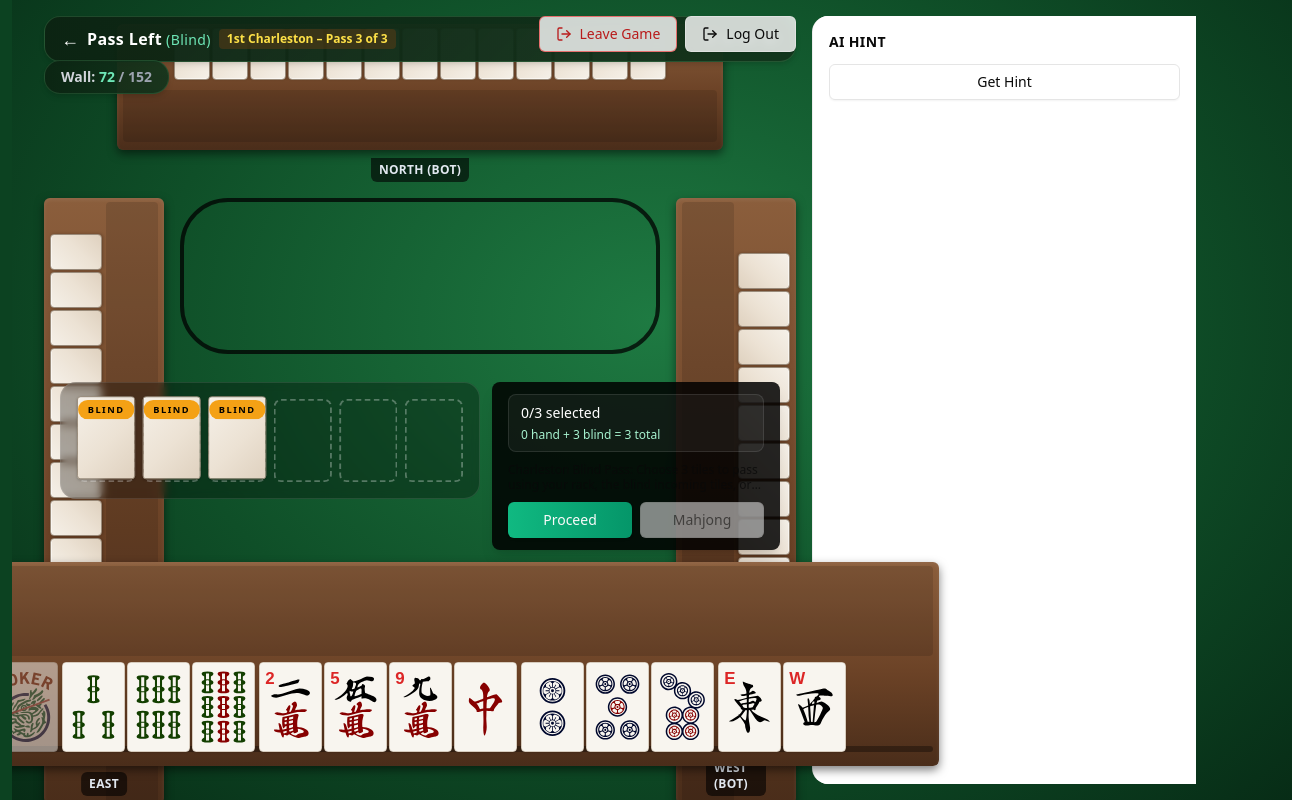
Test case: VR-010: Charleston First Left blind incoming behavior › keeps blind tiles out of the outgoing pool without inflating the rack
Click the button with test id "^tile-10-" at (290, 707), box [258,662,322,752]
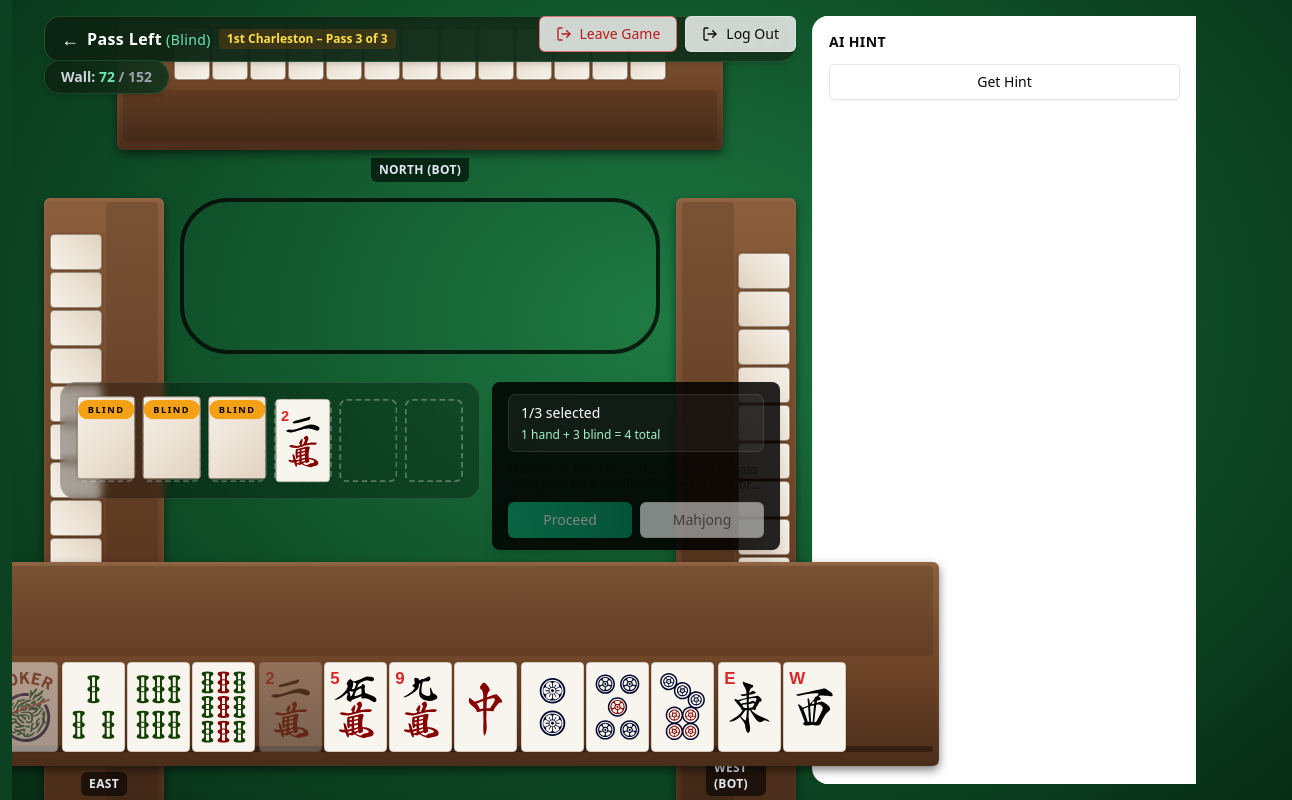
Click the button with test id "staging-incoming-tile-incoming-FirstLeft-0-3" at (106, 438), box [77,396,135,479]
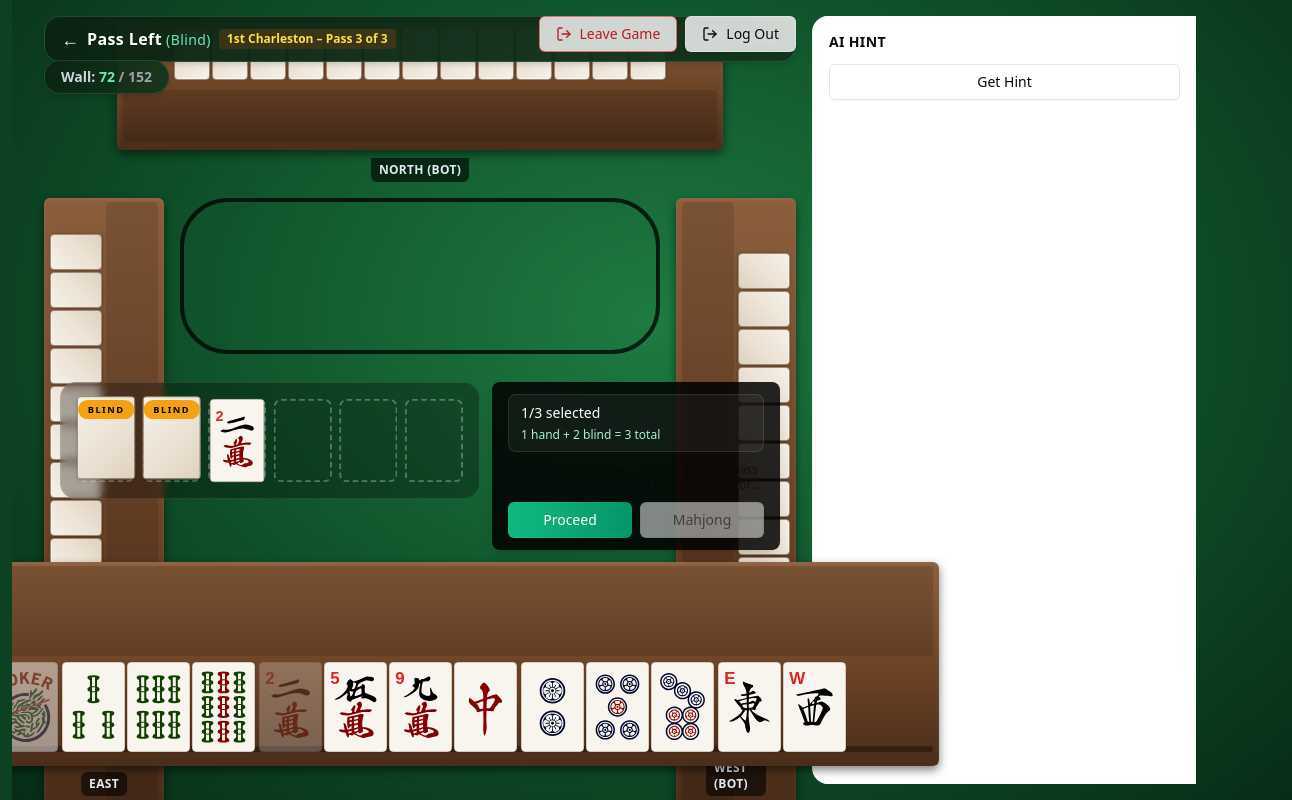
Click the button with test id "staging-incoming-tile-incoming-FirstLeft-1-14" at (106, 438), box [77,396,135,479]
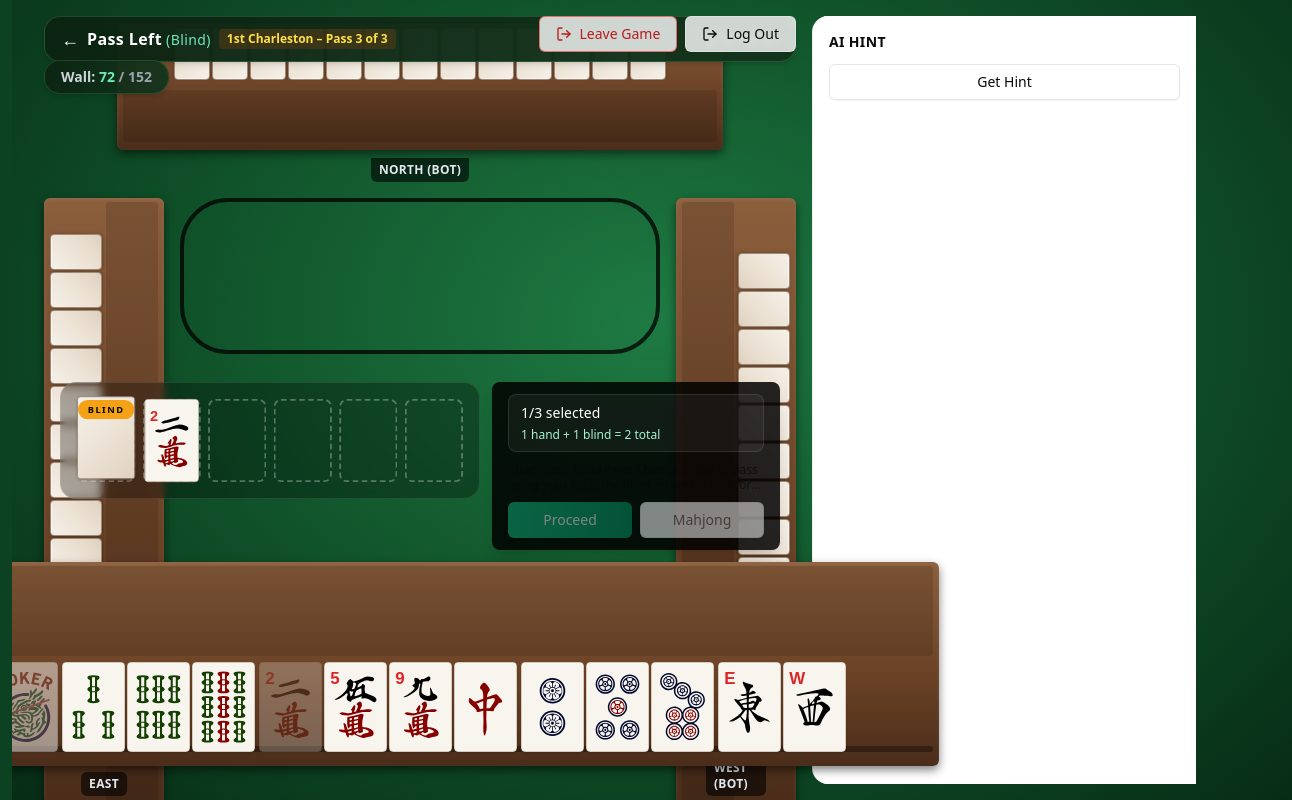
Click the button with test id "staging-incoming-tile-incoming-FirstLeft-2-20" at (106, 438), box [77,396,135,479]
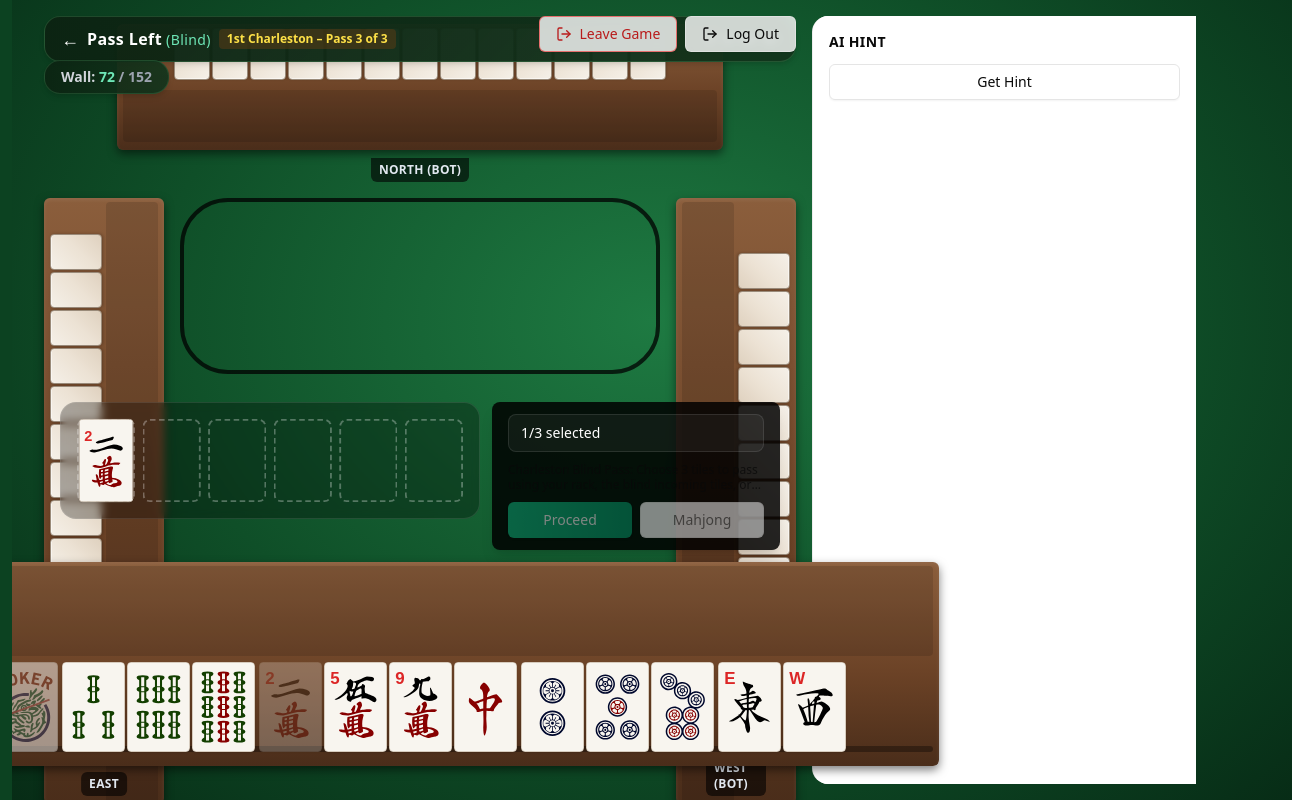
Check: the button with test id "staging-incoming-tile-incoming-FirstLeft-2-20" is gone
